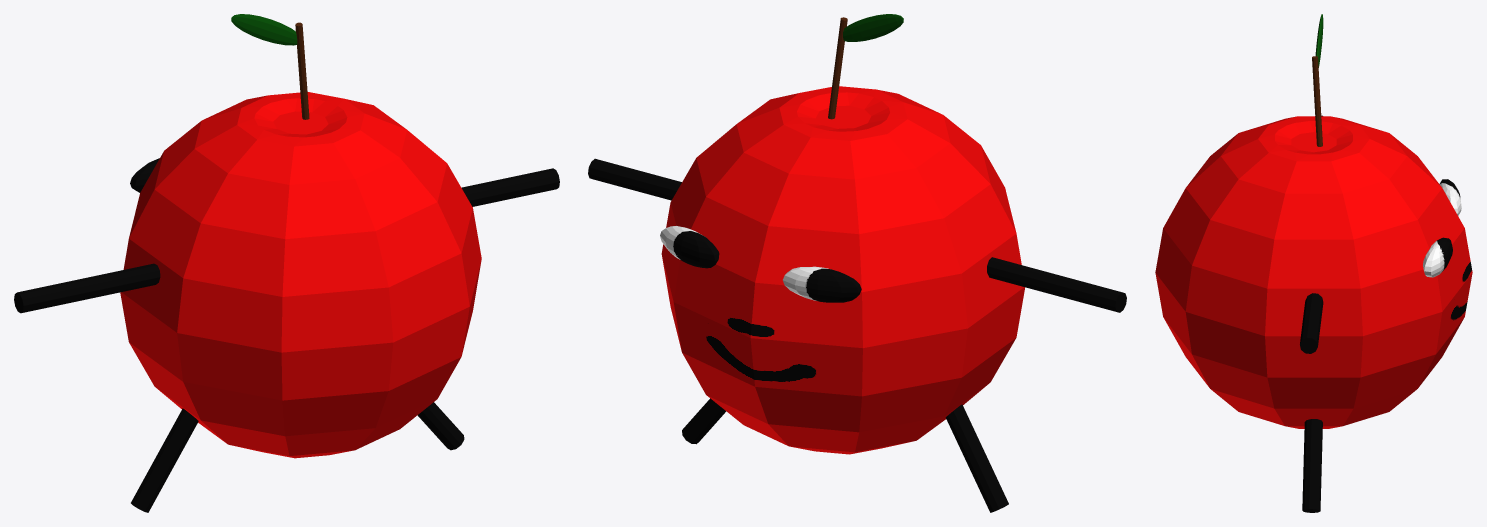
Rendered from apple.obj.
The picture shows the model from 3 angles, left to right: view 1: azimuth 30°, elevation 25°; view 2: azimuth 150°, elevation 25°; view 3: azimuth 270°, elevation 25°; orthographic projection. The views are drawn at different scales.
Parts seen in each view (by area): view 1: 球, 円柱.002, 円柱.001, 円柱.003, 球.001, 円柱, 円柱.004_円柱.005; view 2: 球, 円柱.002, 円柱.001, 球.003, 円柱.003, 球.002, 球.001, 円柱, 円柱.004_円柱.005; view 3: 球, 円柱, 円柱.003, 球.002, 円柱.004_円柱.005, 球.003.
Boxes of the visible parts, bbox=[...] form: 球: bbox=[120, 92, 481, 458]; 円柱.002: bbox=[14, 263, 160, 313]; 円柱.001: bbox=[131, 408, 198, 512]; 円柱.003: bbox=[461, 168, 559, 206]; 球.001: bbox=[231, 14, 297, 45]; 円柱: bbox=[417, 402, 464, 450]; 円柱.004_円柱.005: bbox=[295, 22, 309, 119]; 球: bbox=[661, 86, 1025, 454]; 円柱.002: bbox=[987, 257, 1126, 312]; 円柱.001: bbox=[945, 404, 1008, 512]; 球.003: bbox=[783, 266, 861, 302]; 円柱.003: bbox=[588, 158, 681, 200]; 球.002: bbox=[660, 226, 719, 268]; 球.001: bbox=[843, 14, 903, 41]; 円柱: bbox=[682, 398, 726, 444]; 円柱.004_円柱.005: bbox=[828, 17, 847, 119]; 球: bbox=[1155, 116, 1472, 428]; 円柱: bbox=[1302, 419, 1322, 512]; 円柱.003: bbox=[1300, 293, 1323, 353]; 球.002: bbox=[1423, 237, 1452, 277]; 円柱.004_円柱.005: bbox=[1312, 56, 1322, 146]; 球.003: bbox=[1439, 179, 1461, 215].
Size of the model in its own units: 3.55 by 3.07 by 2.14.
